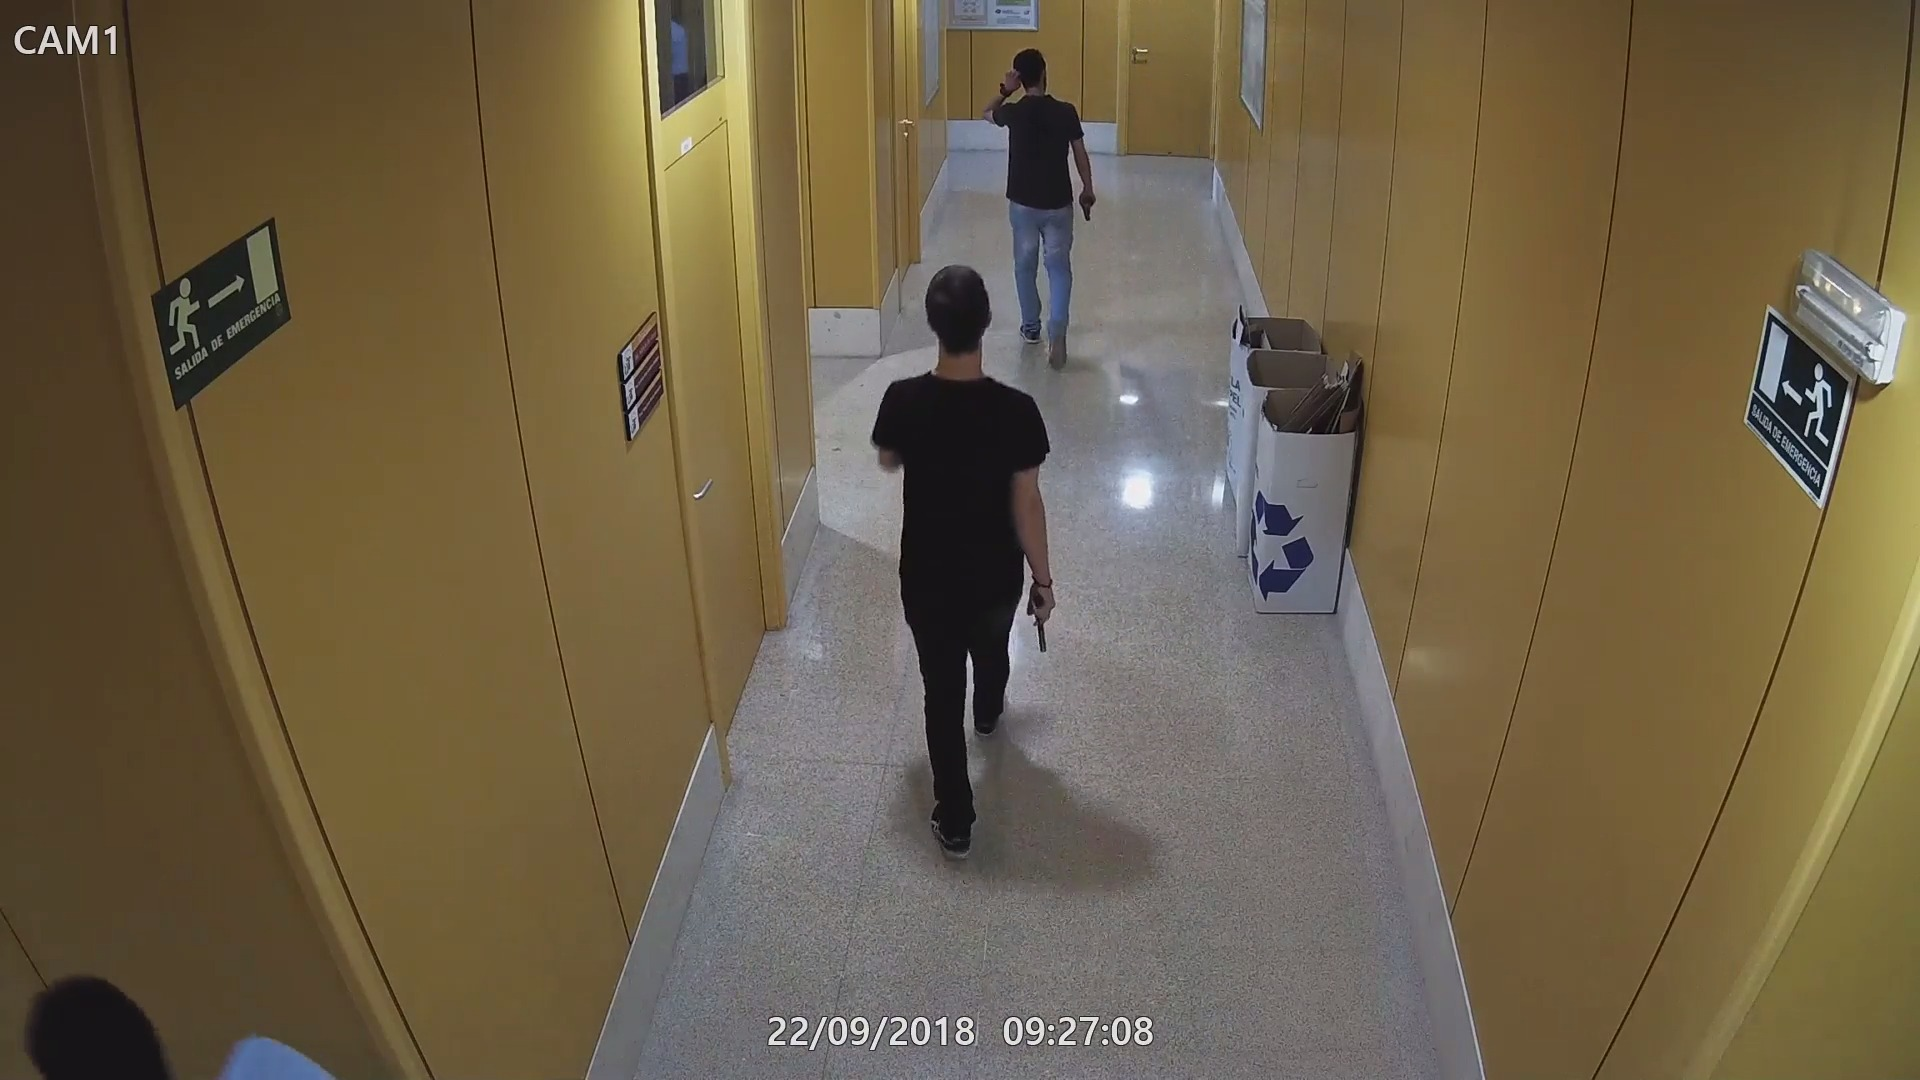Handgun: (1026, 582, 1059, 653), (1075, 191, 1101, 222)
